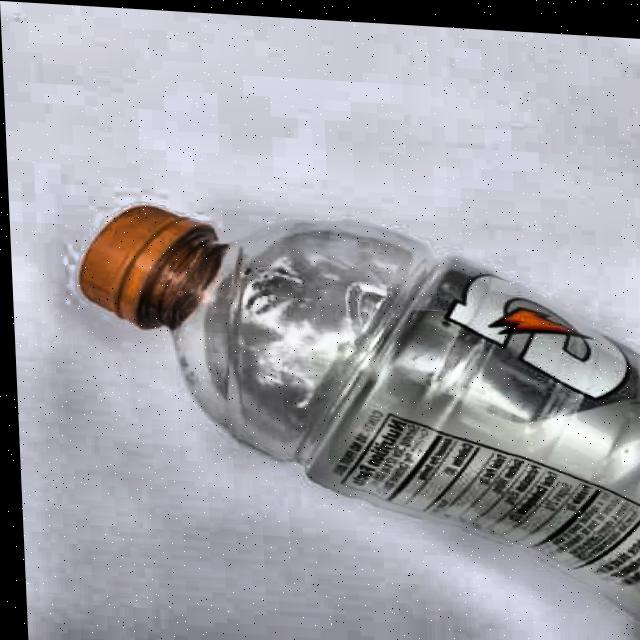plastic: (74, 195, 640, 640)
